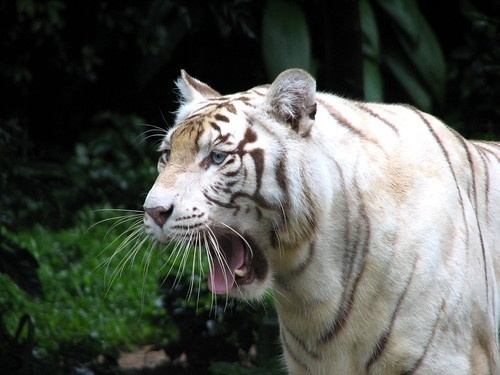tigre: (126, 66, 500, 374)
